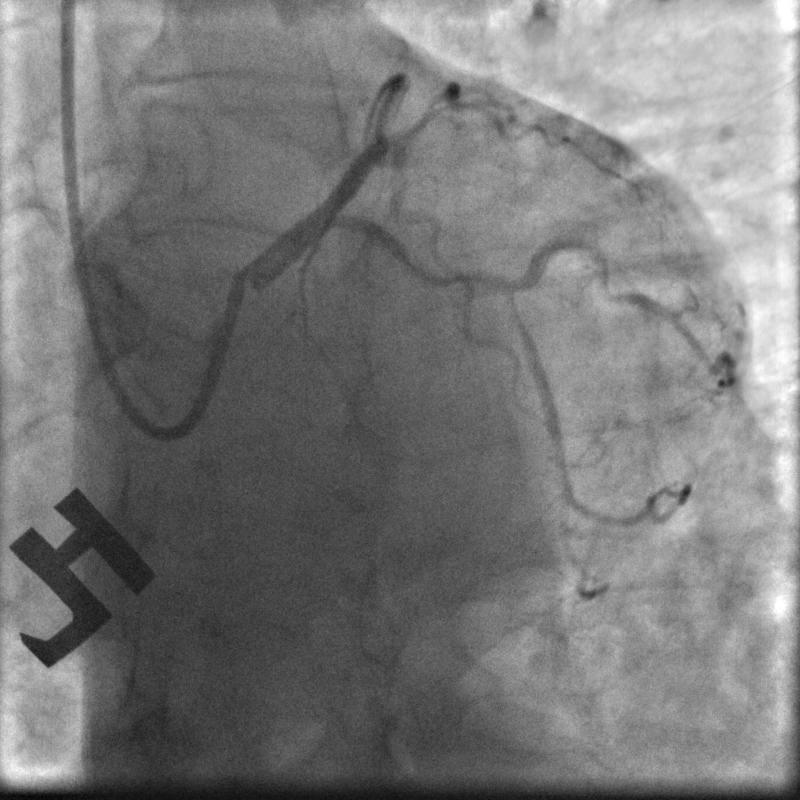Stenosis: (433, 264, 528, 304)
